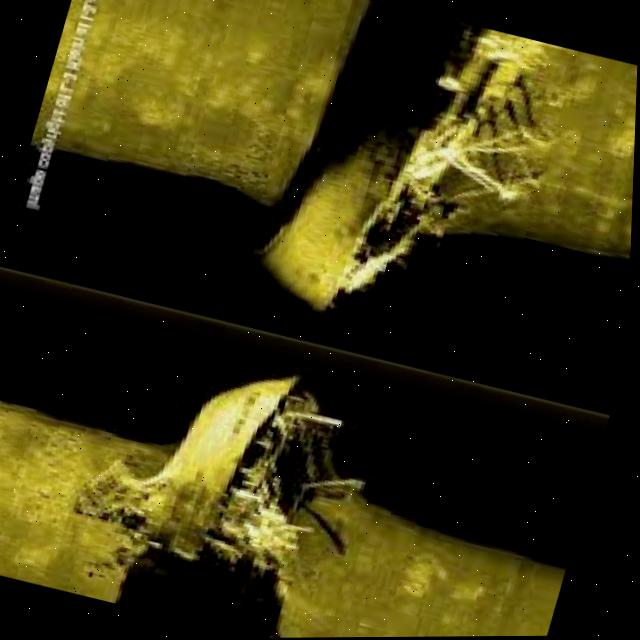shipwreck: (246, 0, 558, 353), (116, 338, 369, 593)
